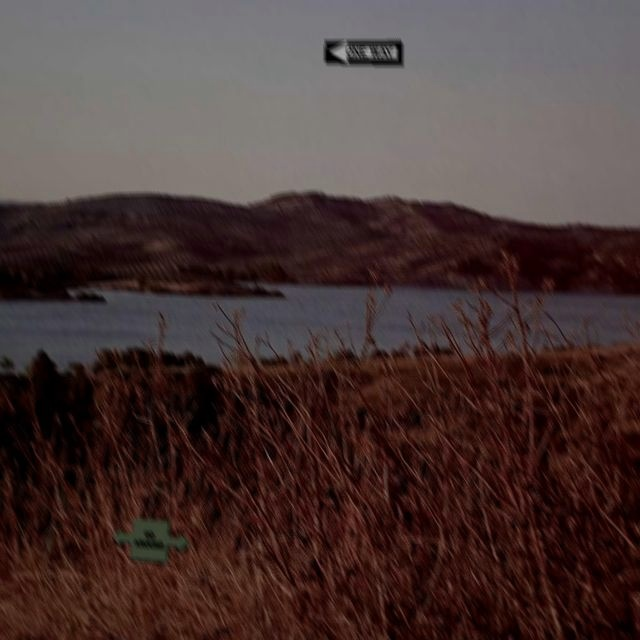GO_AROUND: (112, 517, 191, 563)
ONE_WAY_ left: (325, 40, 404, 65)
